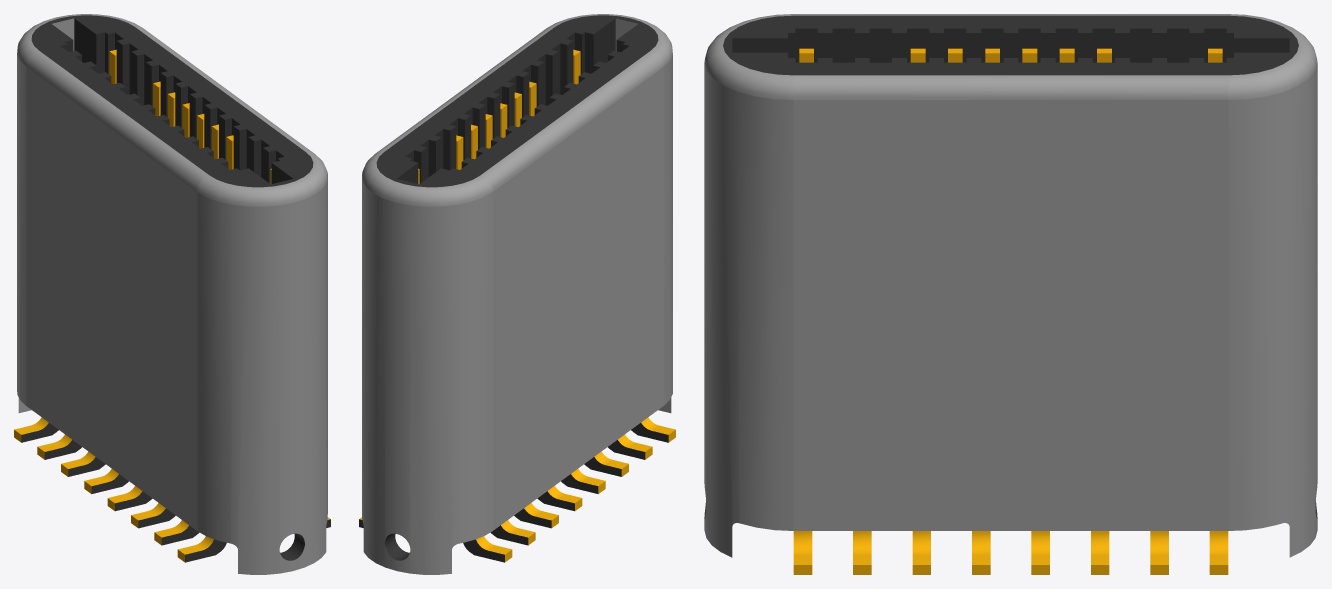
File: kc-usb_c_plug_shenzhenjingtuojin_918-118a2021y40002_vertical.glb
3 views of the same model, side by side, from view 1: azimuth 30°, elevation 25°; view 2: azimuth 150°, elevation 25°; view 3: azimuth 270°, elevation 25° (orthographic). The views are drawn at different scales.
Parts seen in each view (by area): view 1: 0.3333333333333333_0.3333333333333333_0.3333333333333333_0, 0_0_0_0, 1_0.5_0_0, 1_0.4166666666666667_0_0; view 2: 0.3333333333333333_0.3333333333333333_0.3333333333333333_0, 0_0_0_0, 1_0.5_0_0, 1_0.4166666666666667_0_0; view 3: 0.3333333333333333_0.3333333333333333_0.3333333333333333_0, 0_0_0_0, 1_0.5_0_0, 1_0.4166666666666667_0_0.
Part boxes in pixels (box(x1,y1,x2,y2)): 0.3333333333333333_0.3333333333333333_0.3333333333333333_0: box(17, 14, 327, 574); 0_0_0_0: box(21, 15, 330, 562); 1_0.5_0_0: box(14, 417, 330, 562); 1_0.4166666666666667_0_0: box(109, 49, 271, 184); 0.3333333333333333_0.3333333333333333_0.3333333333333333_0: box(362, 14, 672, 574); 0_0_0_0: box(359, 15, 668, 562); 1_0.5_0_0: box(359, 417, 675, 562); 1_0.4166666666666667_0_0: box(418, 49, 580, 184); 0.3333333333333333_0.3333333333333333_0.3333333333333333_0: box(704, 14, 1317, 557); 0_0_0_0: box(704, 15, 1317, 518); 1_0.5_0_0: box(793, 531, 1228, 574); 1_0.4166666666666667_0_0: box(799, 48, 1222, 62).
Size of the model in its own units: 0.288 by 0.7201 by 0.825.
